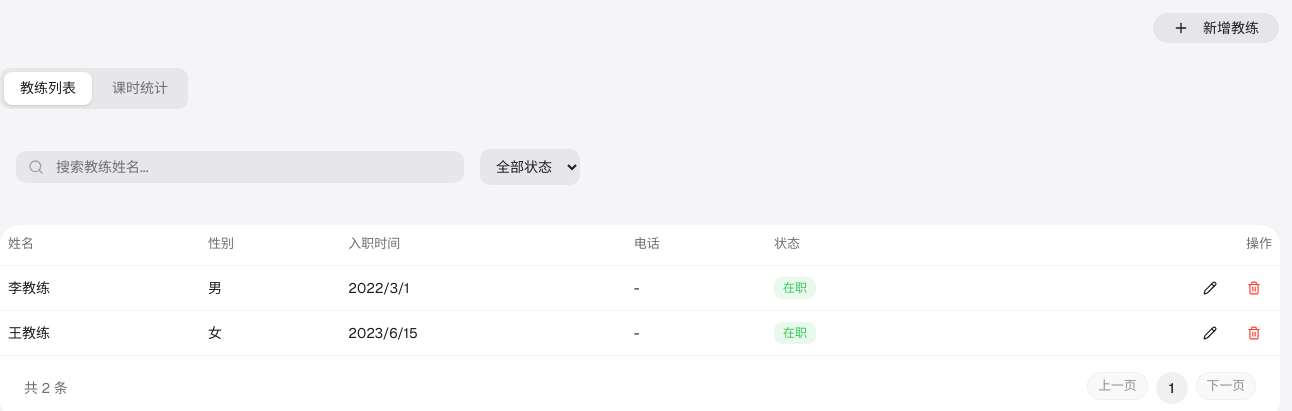
CoachesPage 教练管理页 › 课时统计中无课时的教练显示为 —
This screenshot has width=1292, height=411.
Expected: the link "李教练" is shown, [8,278,50,296]
Click the button "课时统计". click: [140, 88]
box: [96,72,184,105]
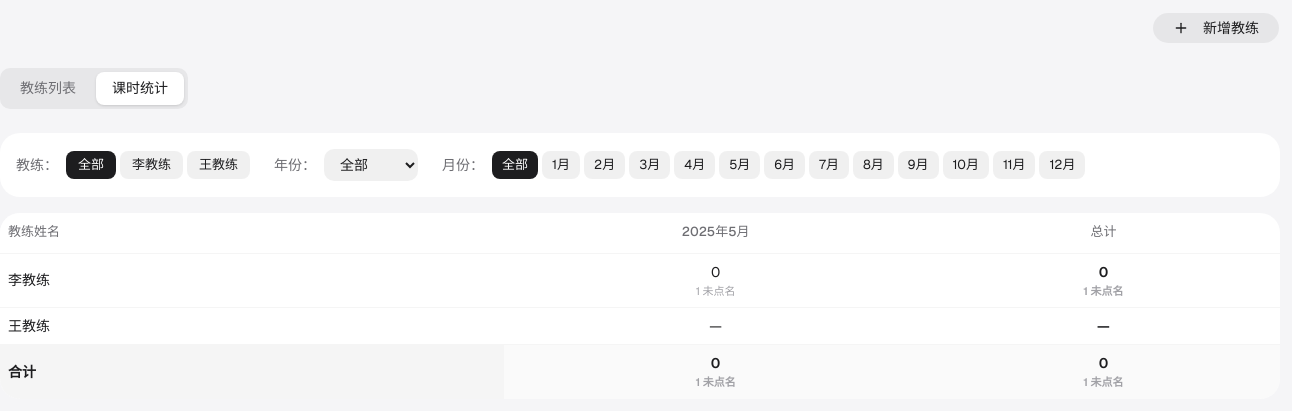
Result: the column heading "2025年5月" is shown at [504,213,927,253]
Result: the row "王教练 — —" is shown at [0,308,1280,345]
